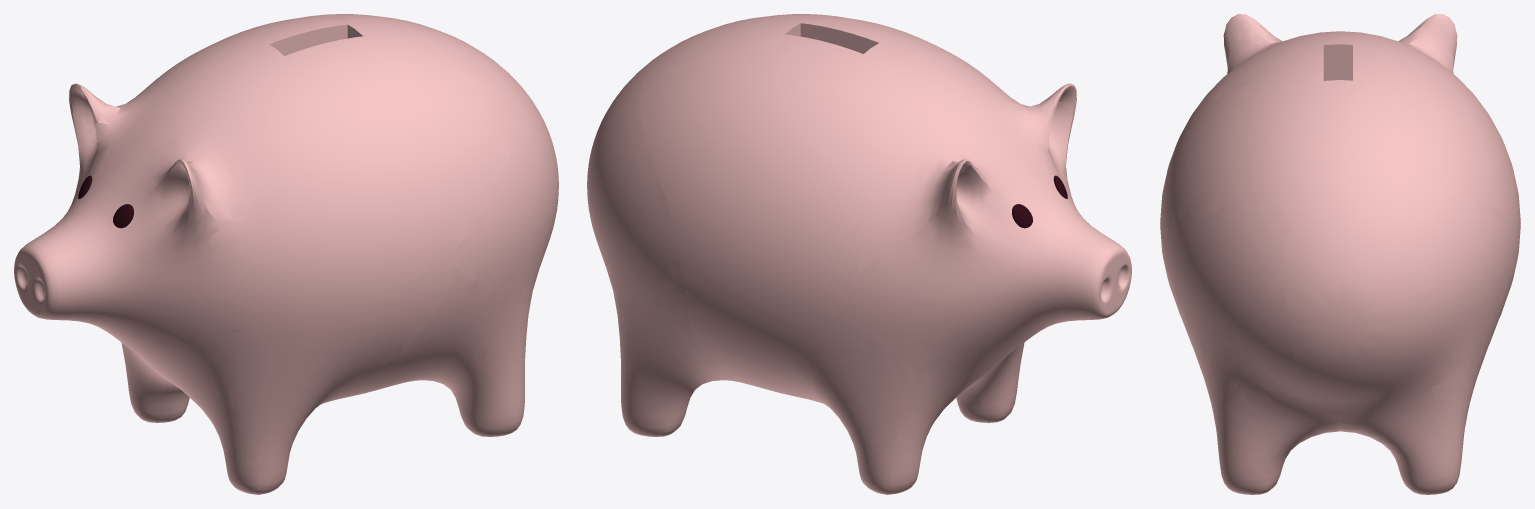
Rendered from PiggyBankFractured.fbx.
3 views of the same model, side by side, from view 1: azimuth 30°, elevation 25°; view 2: azimuth 150°, elevation 25°; view 3: azimuth 270°, elevation 25° (orthographic). The views are drawn at different scales.
Parts seen in each view (by area): view 1: marrano, marrano_cell.004, marrano_cell.017, marrano_cell.013, marrano_cell.002, marrano_cell.018, marrano_cell, marrano_cell.011, marrano_cell.001, marrano_cell.019, marrano_cell.012; view 2: marrano, marrano_cell.009, marrano_cell.008, marrano_cell.013, marrano_cell.001, marrano_cell.004, marrano_cell.010, marrano_cell.007, marrano_cell.005, marrano_cell; view 3: marrano, marrano_cell.008, marrano_cell.004, marrano_cell.001, marrano_cell.017, marrano_cell.013, marrano_cell.020, marrano_cell, marrano_cell.018.
Boxes of the visible parts, <box> form: marrano: <box>14,14,554,494</box>; marrano_cell.004: <box>375,17,518,253</box>; marrano_cell.017: <box>452,88,558,303</box>; marrano_cell.013: <box>76,14,368,141</box>; marrano_cell.002: <box>159,262,456,434</box>; marrano_cell.018: <box>330,271,507,401</box>; marrano_cell: <box>96,125,271,267</box>; marrano_cell.011: <box>161,192,449,334</box>; marrano_cell.001: <box>417,301,530,436</box>; marrano_cell.019: <box>18,198,154,320</box>; marrano_cell.012: <box>129,344,278,472</box>; marrano: <box>615,14,1131,494</box>; marrano_cell.009: <box>687,280,896,494</box>; marrano_cell.008: <box>587,58,682,301</box>; marrano_cell.013: <box>670,19,979,283</box>; marrano_cell.001: <box>615,277,757,436</box>; marrano_cell.004: <box>640,14,804,196</box>; marrano_cell.010: <box>779,303,967,451</box>; marrano_cell.007: <box>857,194,1104,371</box>; marrano_cell.005: <box>891,431,920,494</box>; marrano_cell: <box>980,102,1076,204</box>; marrano: <box>1160,18,1520,492</box>; marrano_cell.008: <box>1286,192,1514,401</box>; marrano_cell.004: <box>1164,99,1499,229</box>; marrano_cell.001: <box>1195,261,1515,494</box>; marrano_cell.017: <box>1164,210,1312,398</box>; marrano_cell.013: <box>1212,14,1518,260</box>; marrano_cell.020: <box>1224,14,1268,39</box>; marrano_cell: <box>1224,39,1259,73</box>; marrano_cell.018: <box>1164,252,1202,374</box>.
Bounding box in the file's own units: 285 × 209 × 186.
